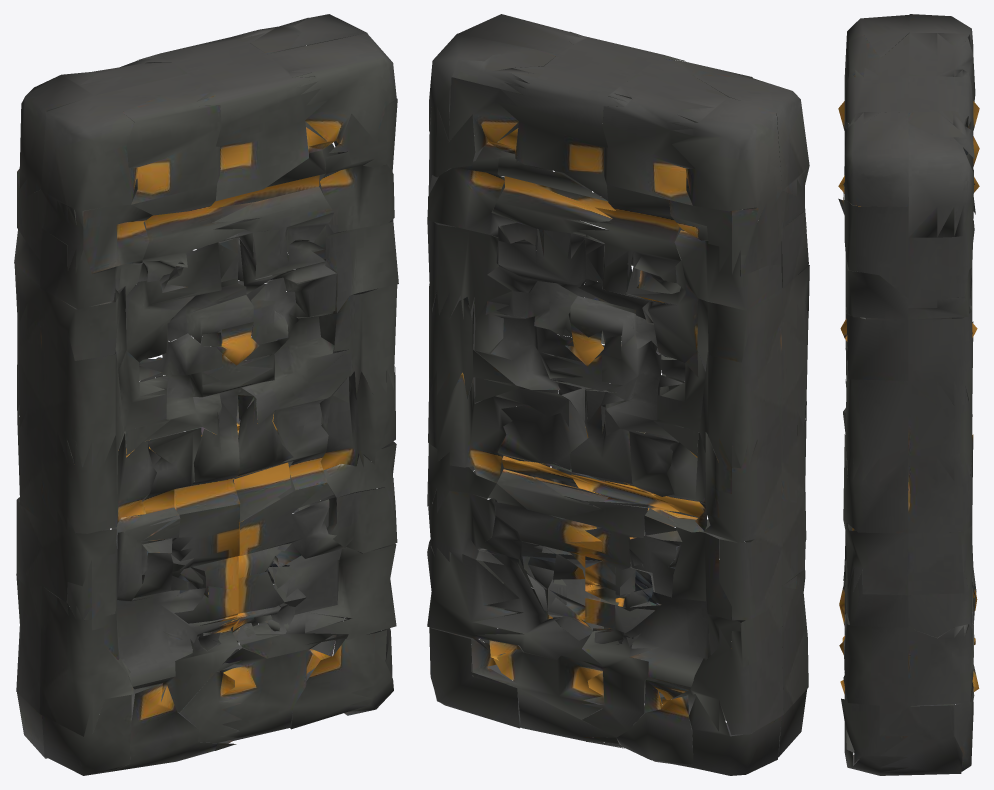
Rendered from stone_stele.glb.
3 renders of one model, left to right at view 1: azimuth 30°, elevation 25°; view 2: azimuth 150°, elevation 25°; view 3: azimuth 270°, elevation 25°, orthographic. The views are drawn at different scales.
Visible parts, largest first — view 1: stone_stele; view 2: stone_stele; view 3: stone_stele.
Part boxes in pixels (x1,y1,x2,y2): stone_stele: (14, 14, 398, 775); stone_stele: (427, 14, 809, 775); stone_stele: (838, 14, 979, 775).
Size of the model in its own units: 0.9024 by 1.7 by 0.3501.
Materials: 1 (1 with a texture image).
